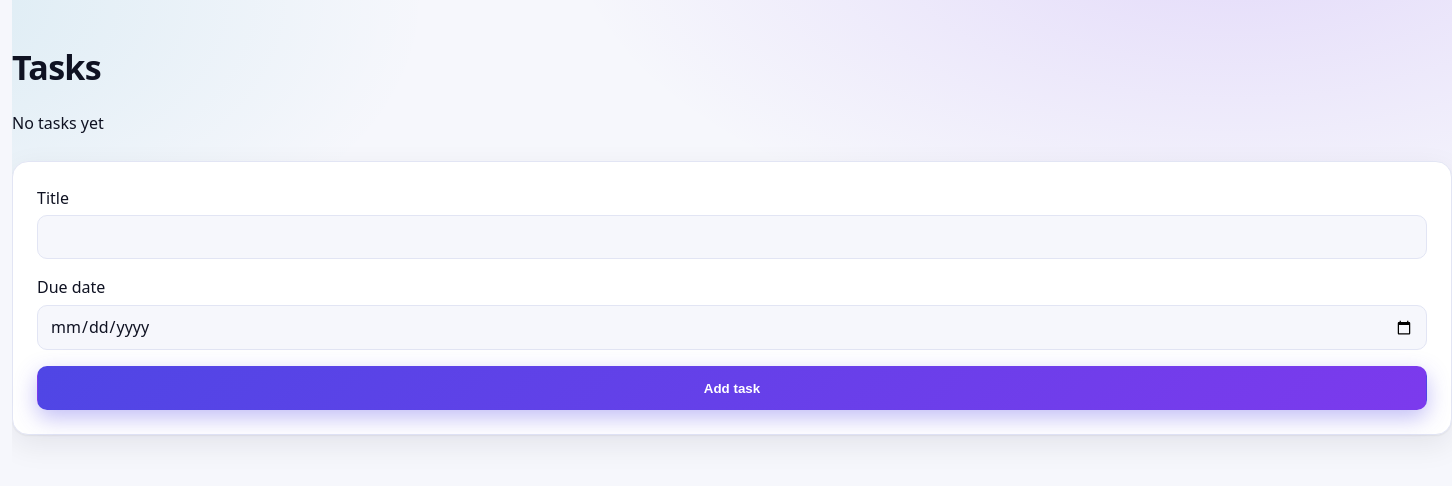
Test: task board interactions › appends the created task and clears the inputs
Type "Buy milk" into the field labelled "Title".
click(732, 237); type("Buy milk")  # box [37,215,1427,259]
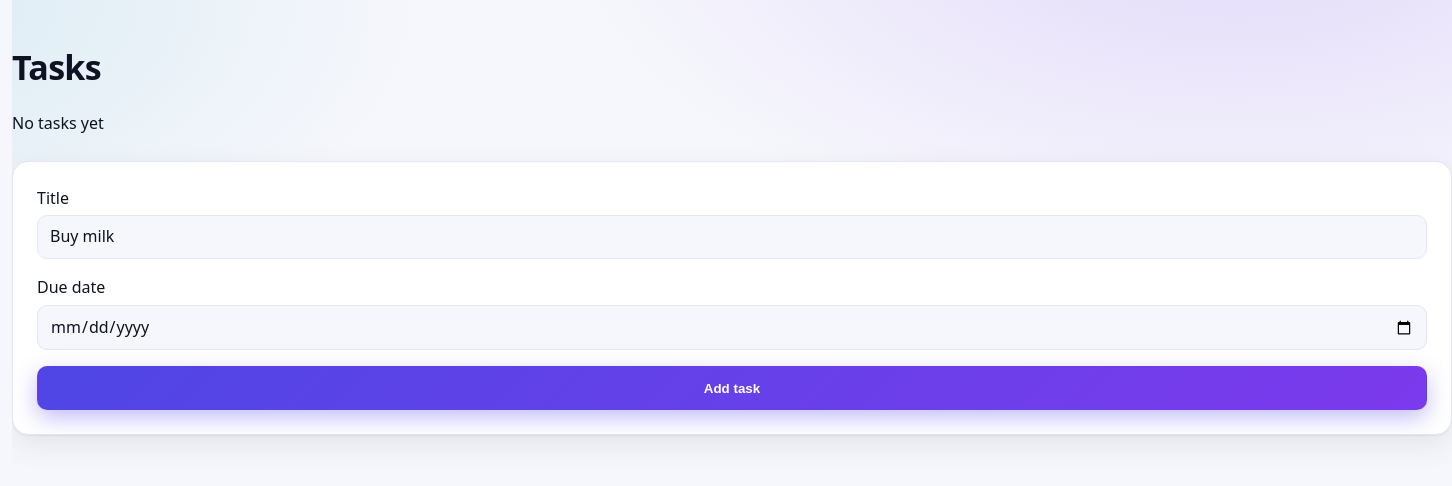
Type "2026-12-25" into the date field labelled "Due date".
click(732, 328); type("2026-12-25")  # box [37,305,1427,350]
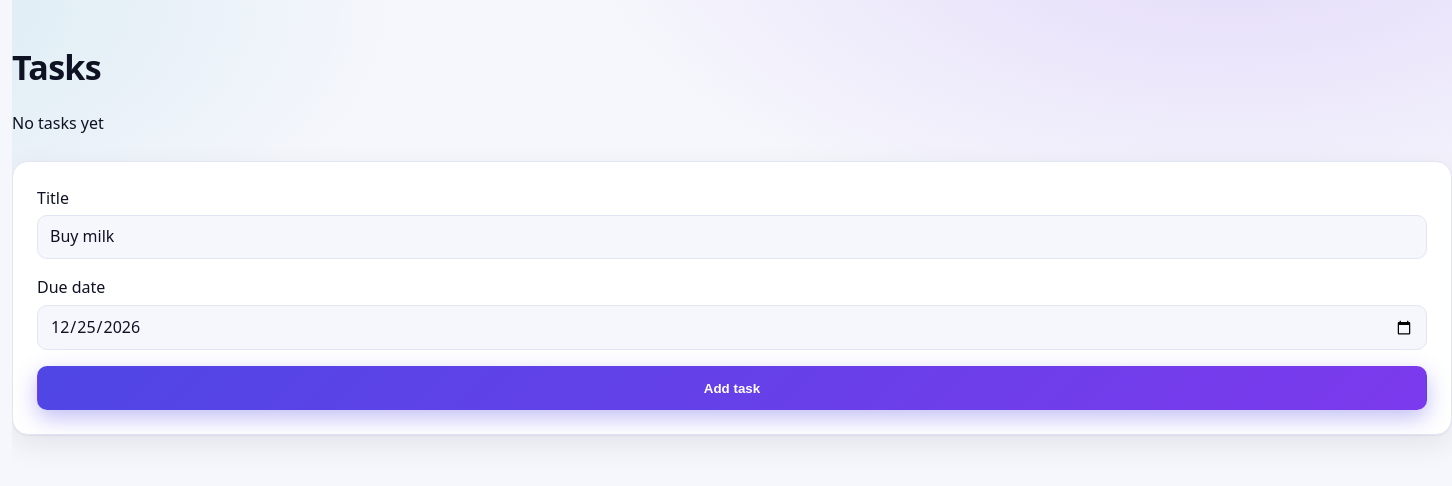
Click the button "Add task".
click(732, 388)  # box [37,366,1427,410]
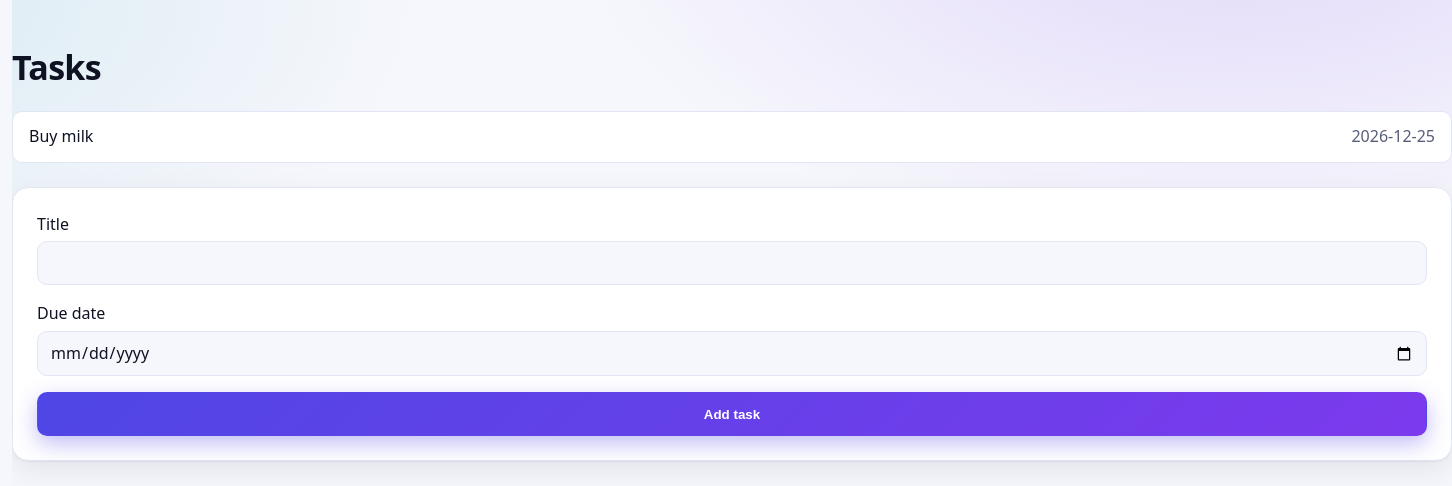
Expected: the list named "Tasks" shows "Buy milk", [29,125,93,147]
Expected: the field labelled "Title" is empty, [37,241,1427,285]
Expected: the date field labelled "Due date" is empty, [37,331,1427,376]
